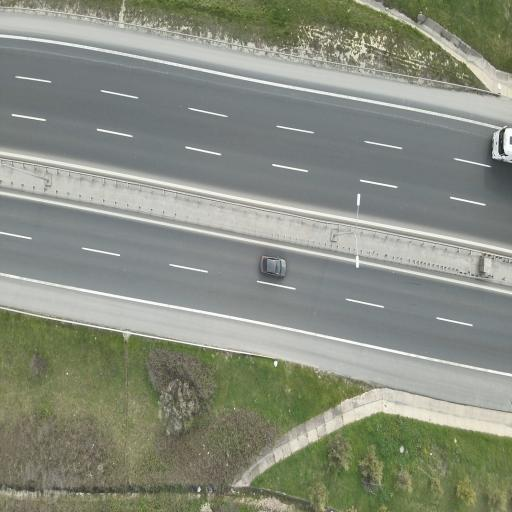car: (260, 256, 286, 276)
truck: (492, 127, 511, 162)
